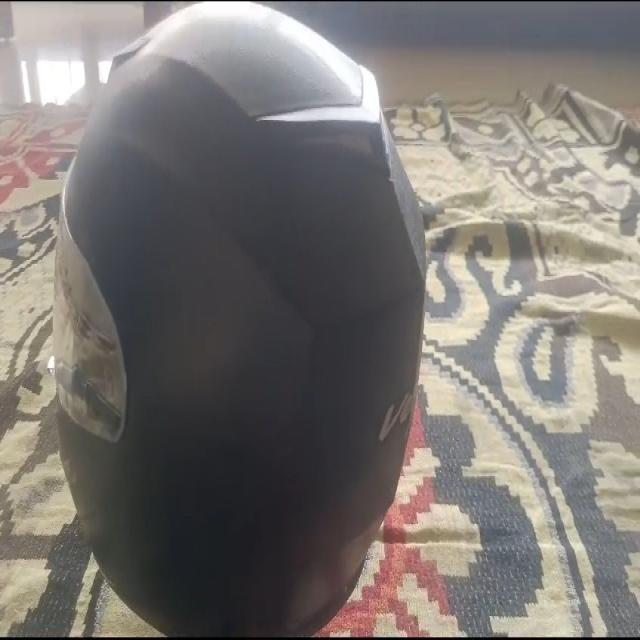Helmet: (51, 4, 426, 637)
